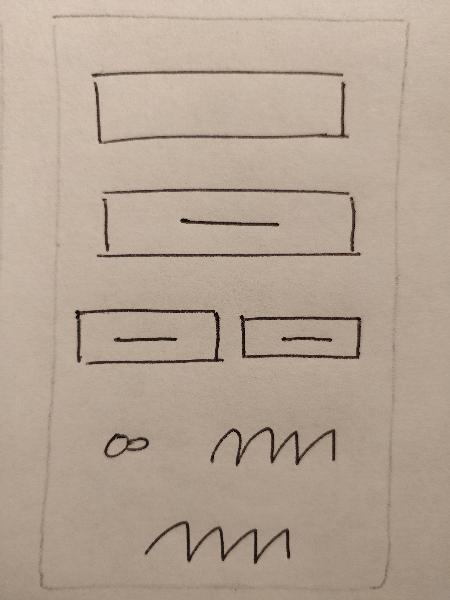button: (86, 182, 366, 266), (65, 297, 227, 373), (232, 302, 372, 368)
switch: (92, 418, 162, 466)
text: (134, 509, 301, 575), (196, 419, 346, 477)
text_input: (85, 62, 357, 155)
